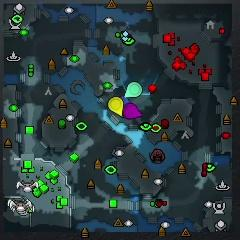p1: (122, 97, 129, 105)
p2: (125, 82, 142, 98)
p3: (123, 103, 142, 119)
p4: (108, 97, 123, 117)
